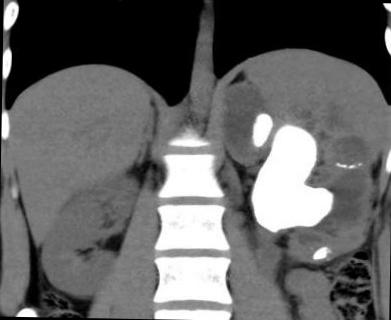Tas_Var: (246, 122, 338, 238), (250, 109, 274, 150), (308, 245, 334, 264), (336, 162, 346, 170), (346, 163, 356, 170), (356, 162, 362, 168)
